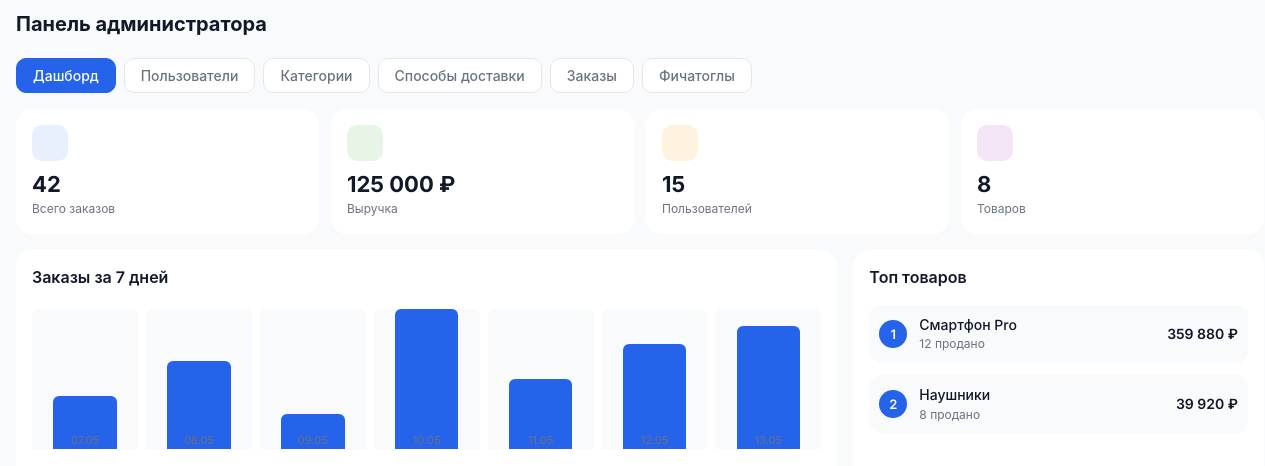
Test case: Admin.vue › отображает фичатоглы
Click the button with test id "admin-section-tab-feature-flags": (697, 76) [642, 58, 752, 93]
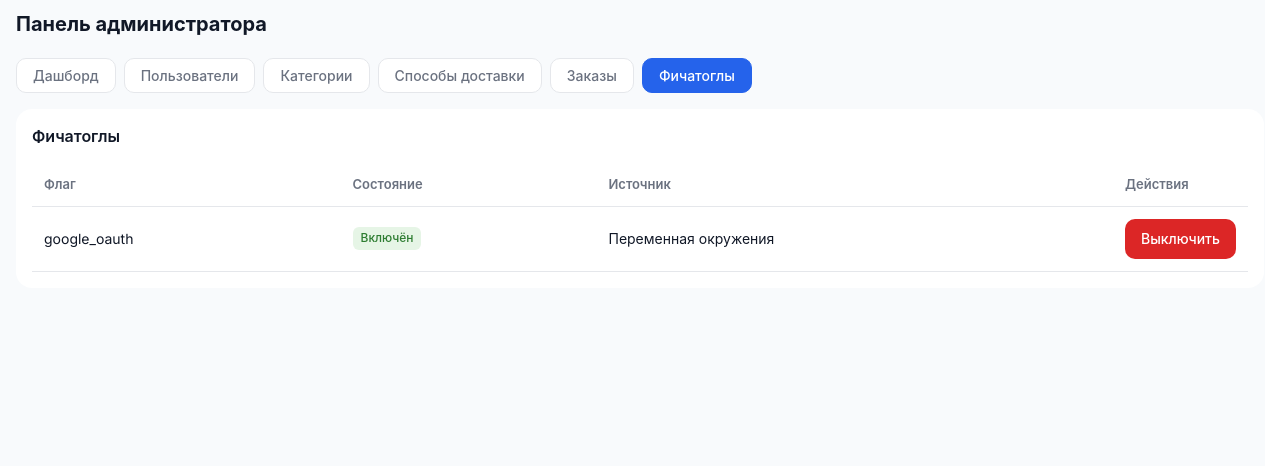
expect the table with test id "feature-flags-table" is shown: met, box [32, 163, 1248, 272]
expect the table with test id "feature-flags-table" shows "google_oauth": met, box [44, 230, 133, 247]
expect the table with test id "feature-flags-table" shows "Включён": met, box [360, 230, 413, 245]
